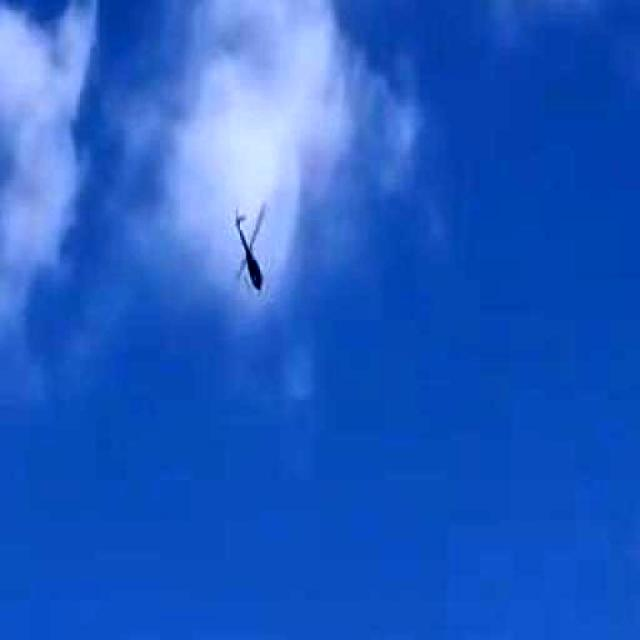drone: (199, 186, 302, 320)
